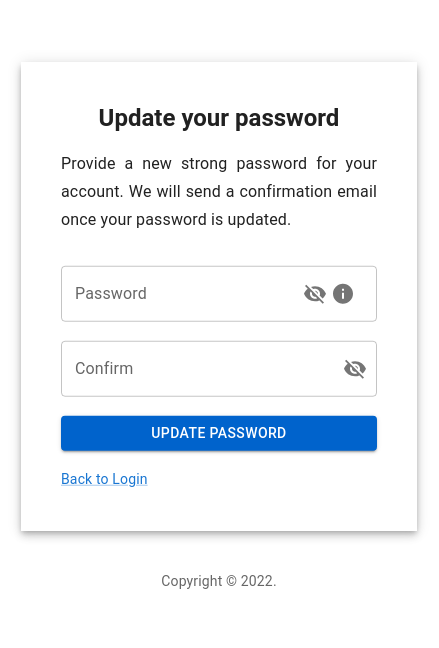
Scenario: Testing the resetPasswordConfirm view › bad request response throws flash error when field errors are unknown
Click the button "Update Password": coordinates (219, 433) x1=61 y1=416 x2=377 y2=450
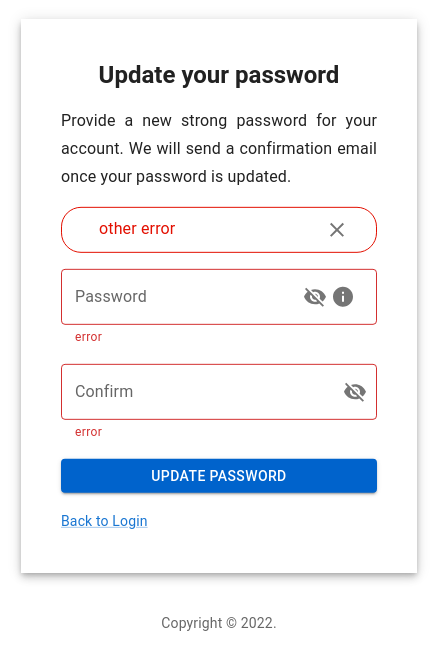
Expected: the text "other error" is shown, x1=99 y1=219 x2=175 y2=238
